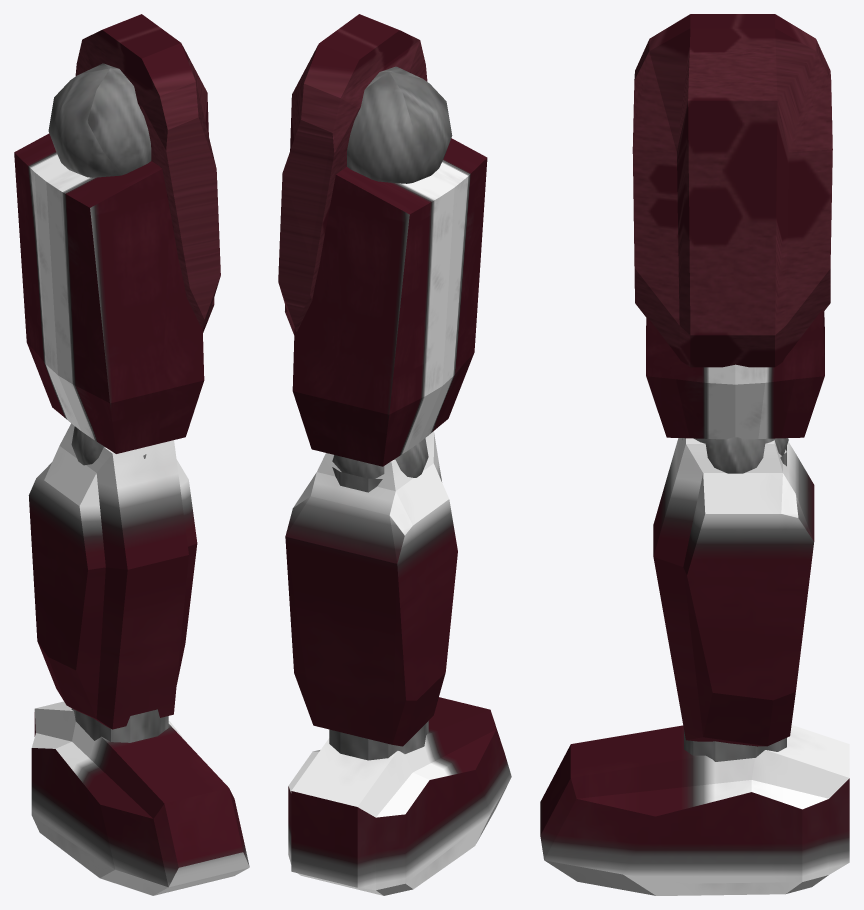
File: Robot 8 L leg.fbx
3 views of the same model, side by side, from view 1: azimuth 30°, elevation 25°; view 2: azimuth 150°, elevation 25°; view 3: azimuth 270°, elevation 25° (orthographic). The views are drawn at different scales.
Parts seen in each view (by area): view 1: Icosphere.001, Icosphere.002, Cube.012; view 2: Icosphere.001, Icosphere.002, Cube.012; view 3: Icosphere.001, Cube.012, Icosphere.002.
Part boxes in pixels (box(x1,y1,x2,y2)): Icosphere.001: box(14, 14, 220, 453); Icosphere.002: box(28, 423, 197, 742); Cube.012: box(31, 701, 249, 895); Icosphere.001: box(278, 14, 487, 466); Icosphere.002: box(285, 431, 457, 760); Cube.012: box(288, 697, 511, 895); Icosphere.001: box(632, 14, 832, 439); Cube.012: box(540, 725, 849, 895); Icosphere.002: box(653, 437, 814, 761).
Size of the model in its own units: 144 by 749 by 244.
